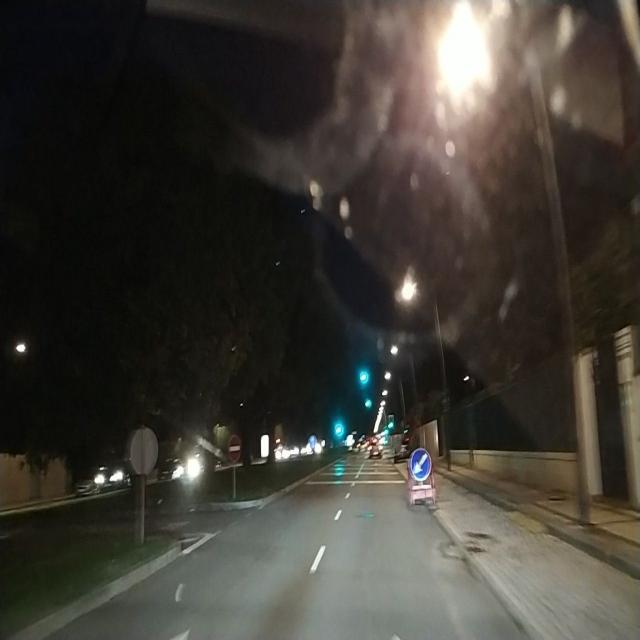car: (73, 461, 133, 499), (393, 436, 411, 464), (368, 442, 382, 459)
